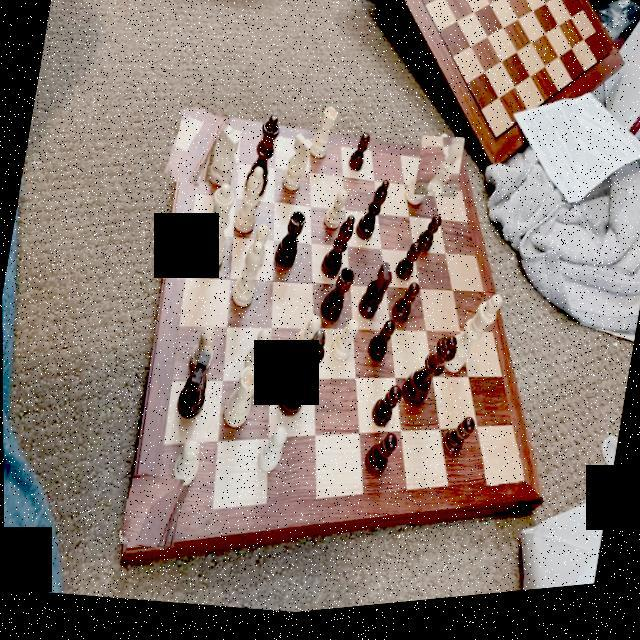chess-table-corners: (164, 92, 232, 194), (118, 470, 186, 555), (479, 446, 538, 514), (412, 140, 464, 208)
